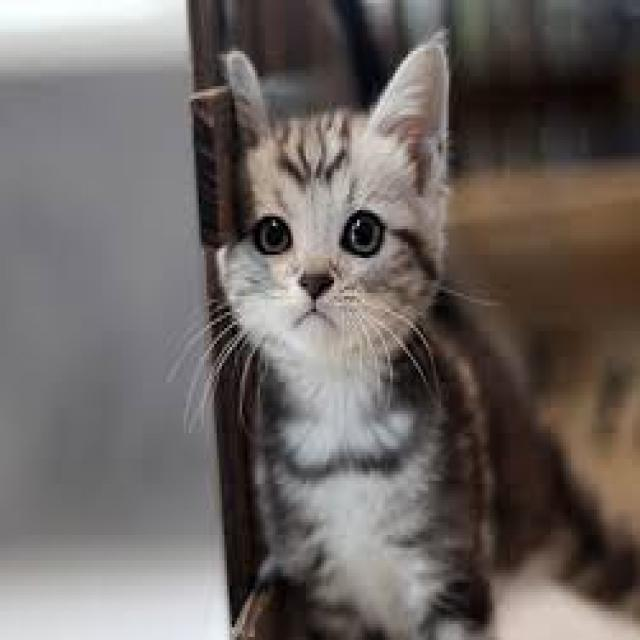cat-face: (167, 49, 464, 371)
